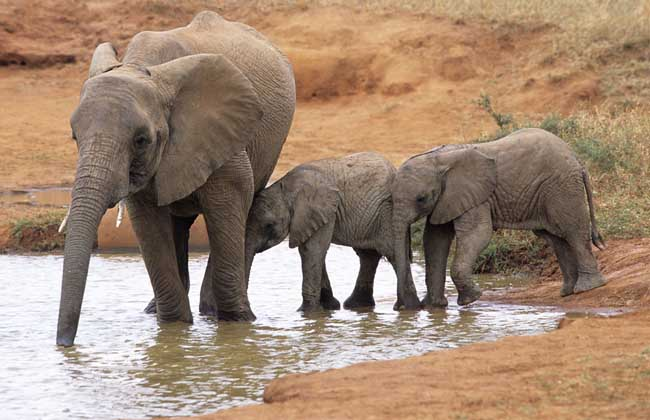elephant: (54, 10, 298, 348), (395, 127, 605, 306), (231, 155, 419, 319)
